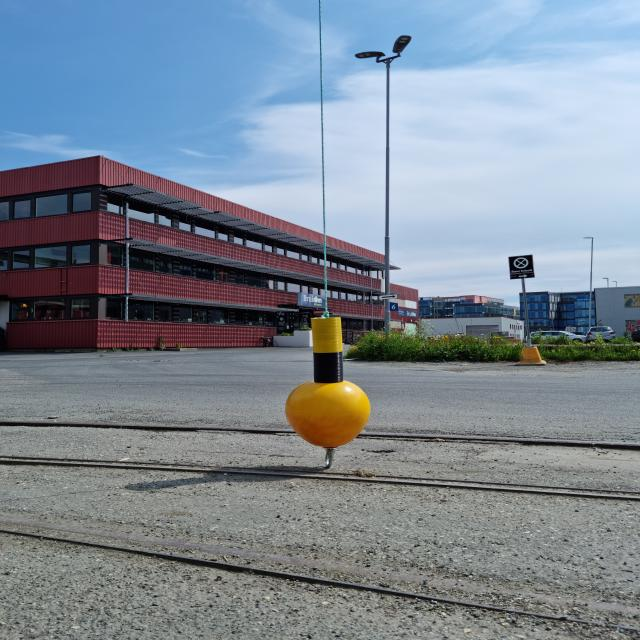west: (286, 317, 374, 448)
